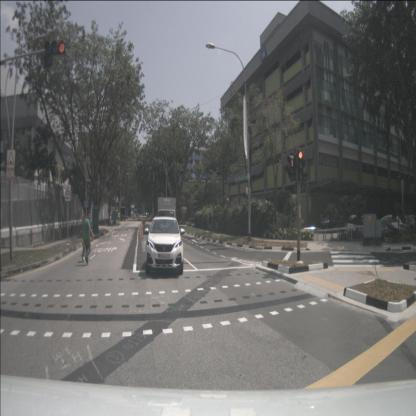human-pedestrian-adult: (82, 210, 95, 266), (214, 212, 219, 234), (209, 212, 212, 233)
movable_object-trafficcone: (138, 224, 142, 239)
vehicle-car: (144, 216, 184, 275), (376, 214, 410, 244), (346, 213, 378, 242), (368, 220, 398, 243), (320, 214, 345, 234)
vehicle-truck: (157, 196, 178, 245), (121, 206, 126, 222)
